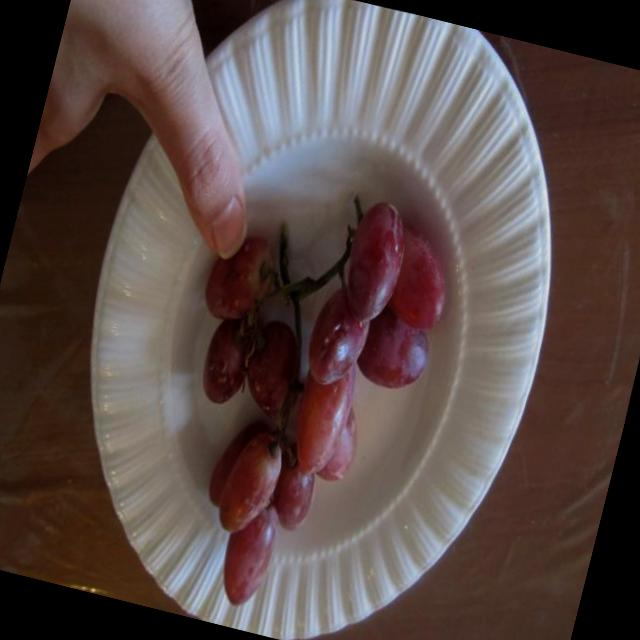Finger: (149, 101, 279, 270)
Grapes: (156, 146, 484, 640)
